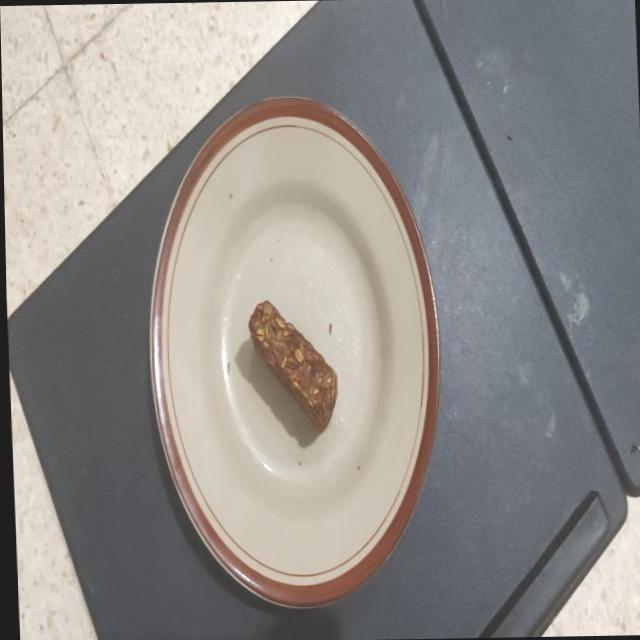tempe_goreng: (248, 300, 337, 430)
